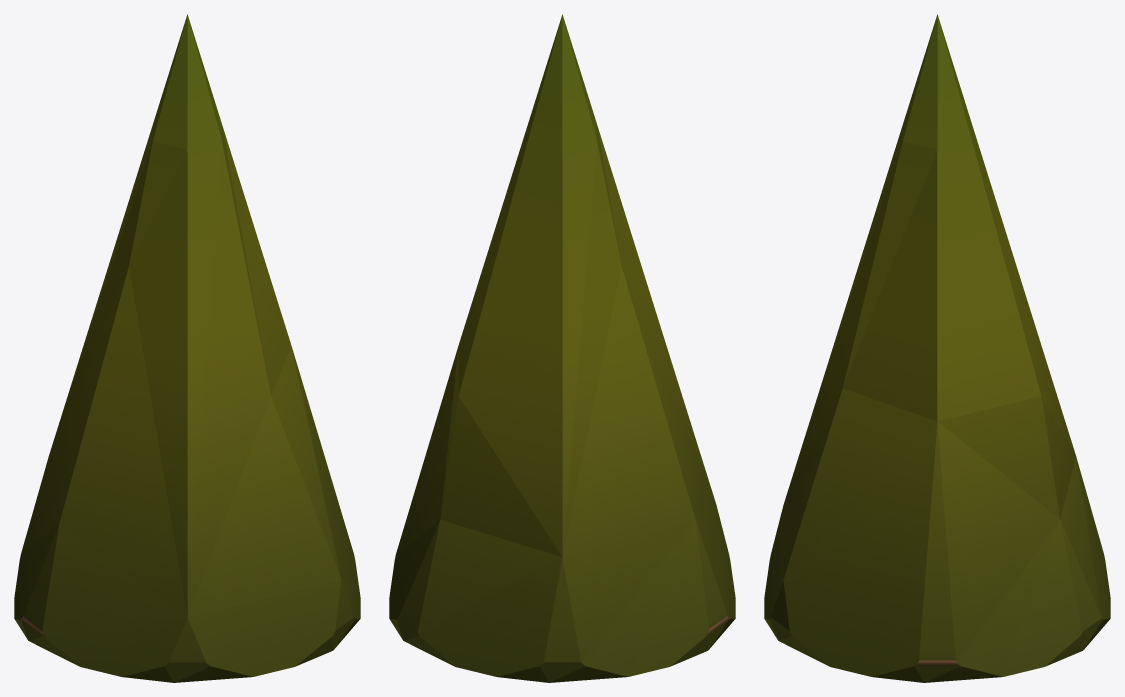
Rendered from Snowy_Plant_002.FBX.
3 views of the same model, side by side, from view 1: azimuth 30°, elevation 25°; view 2: azimuth 150°, elevation 25°; view 3: azimuth 270°, elevation 25° (orthographic).
Parts seen in each view (by area): view 1: Snowy_Plant_002; view 2: Snowy_Plant_002; view 3: Snowy_Plant_002.
Boxes of the visible parts, bbox=[...] form: Snowy_Plant_002: bbox=[14, 14, 360, 682]; Snowy_Plant_002: bbox=[389, 14, 735, 682]; Snowy_Plant_002: bbox=[764, 14, 1110, 682].
Size of the model in its own units: 118 by 213 by 113.
Materials: 1 (1 with a texture image).
